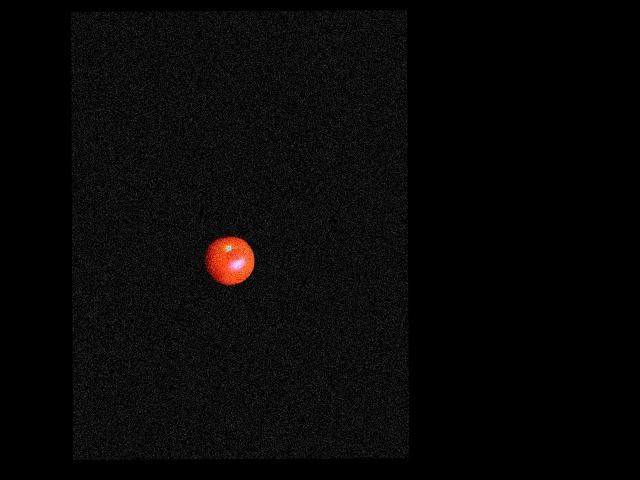tomato: (204, 237, 254, 285)
